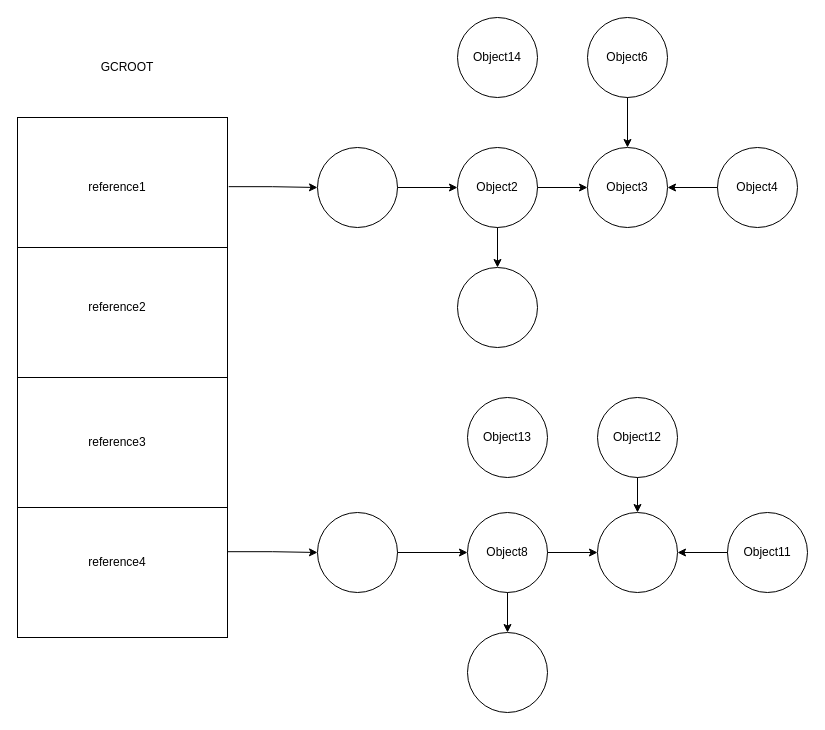
The diagram is 825 pixels wide and 730 high, and some of its shapes have lost their labels. Each missing label, with the centre of its shape:
"Object1" belongs at pixel 357 187.
"Object10" belongs at pixel 637 552.
"Object5" belongs at pixel 497 307.
"Object7" belongs at pixel 357 552.
"Object9" belongs at pixel 507 672.
